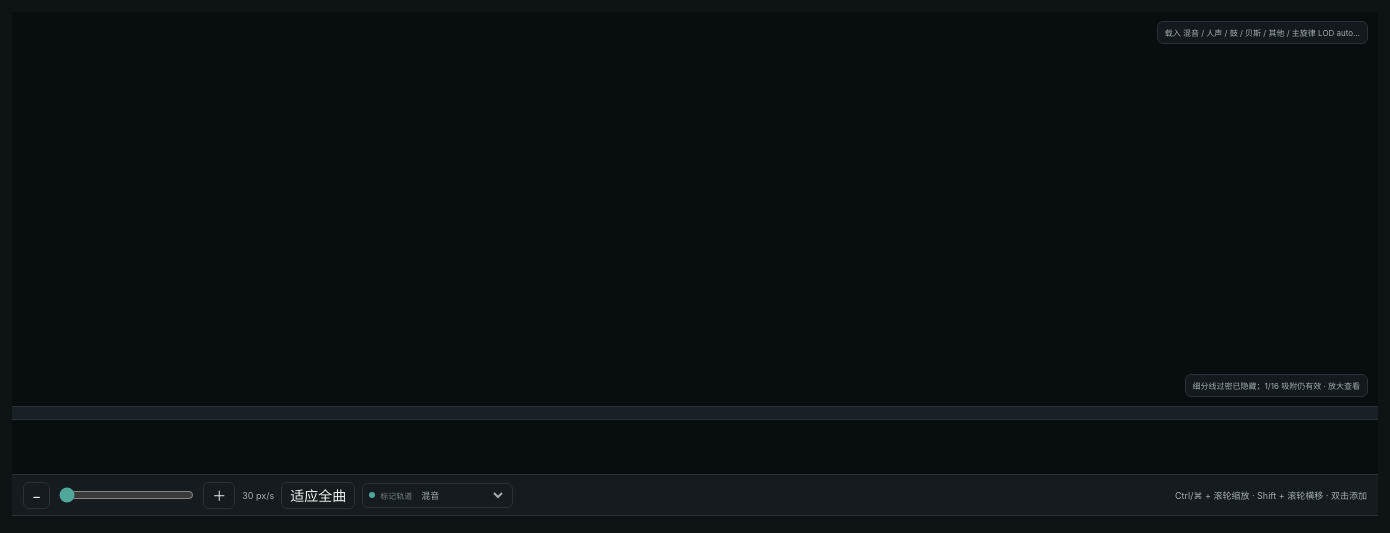
Test: TimelineCanvas tooltip › selects a stem from both its label edge and empty waveform background
The image size is (1390, 533).
Press the mouse on the drawing with test id "timeline-canvas" at coordinates (695, 209), box [12,12,1378,406]
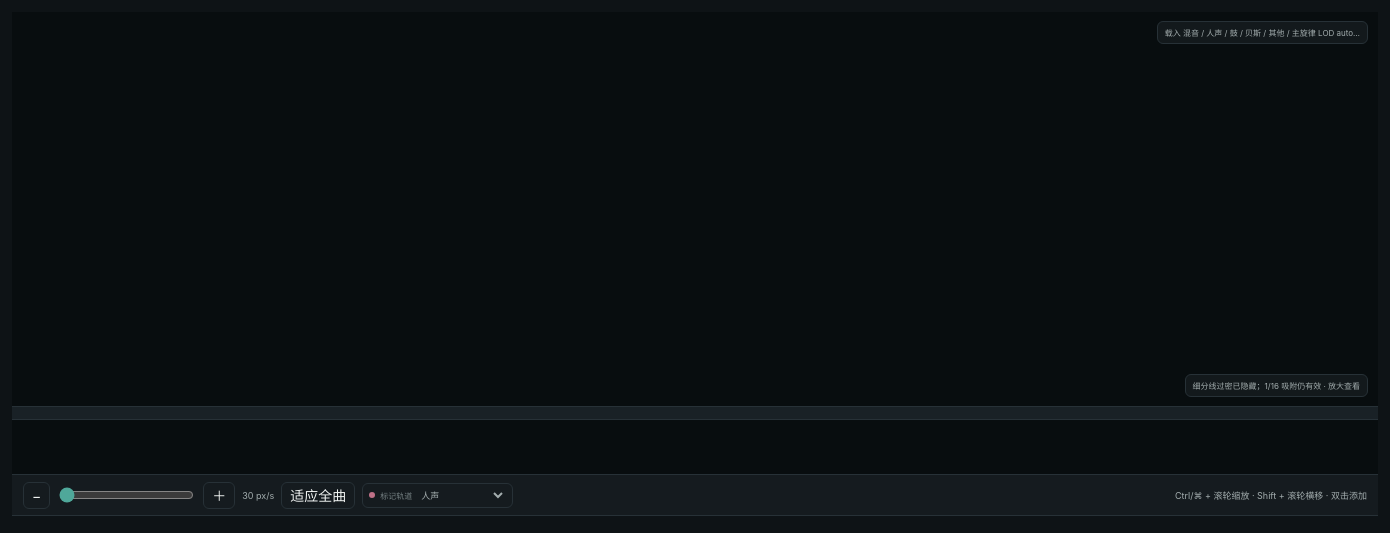
Press the mouse on the drawing with test id "timeline-canvas" at coordinates (695, 209), box [12,12,1378,406]
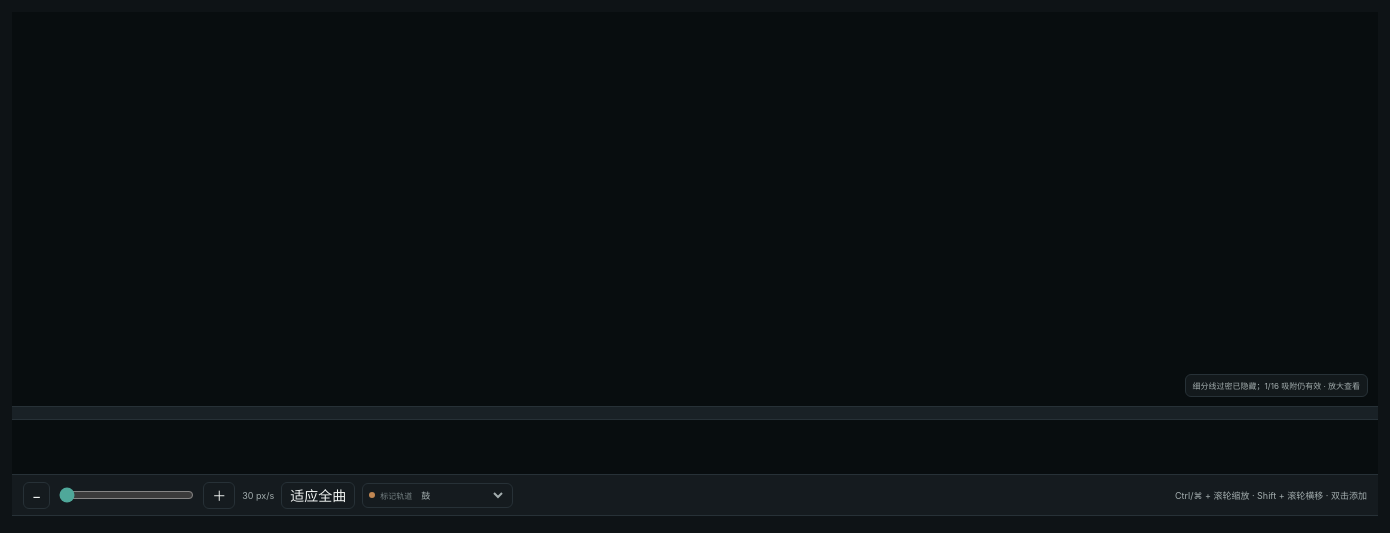
Expected: the dropdown named "当前标记轨道" shows "鼓", [417,488,506,502]
